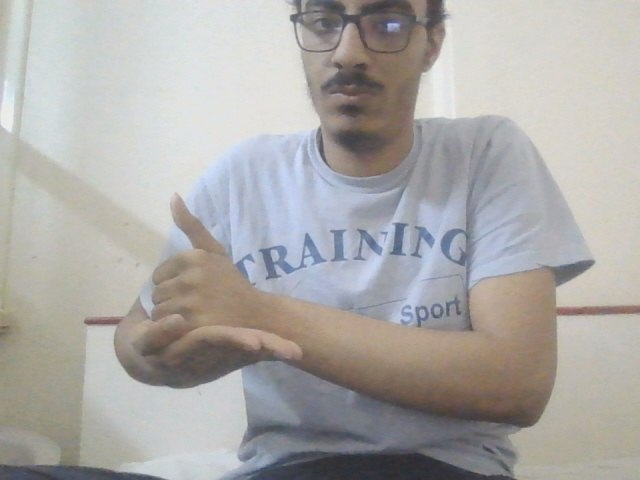Help: (120, 190, 308, 389)
